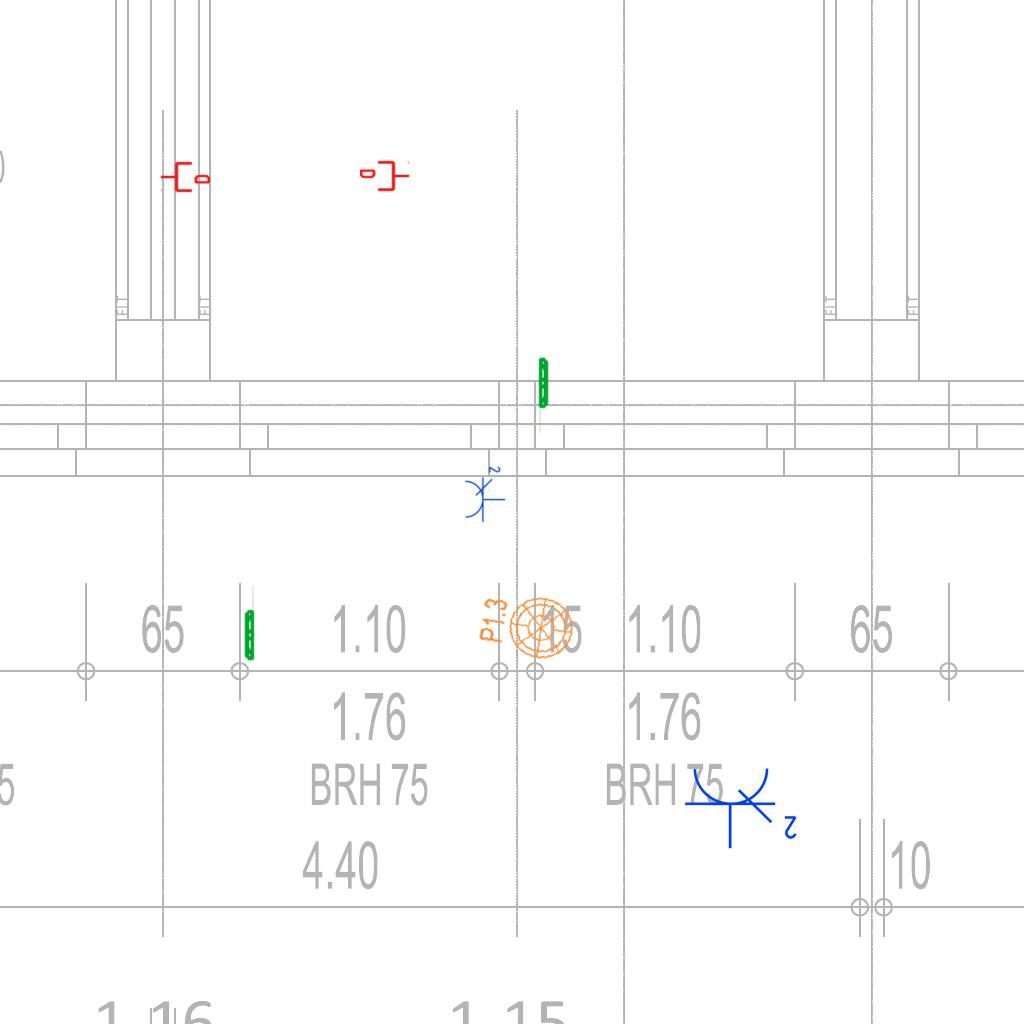Aufbaurundleuchte_LED_Treppenhaus: (468, 580, 580, 665)
Datenanschluss_einfach: (360, 159, 410, 193), (160, 160, 210, 194)
Schukosteckdose_mehrfach: (683, 762, 804, 850), (462, 463, 506, 523)
Sicherheitsleuchte_Wandeinbau: (243, 583, 255, 662), (538, 356, 550, 435)
